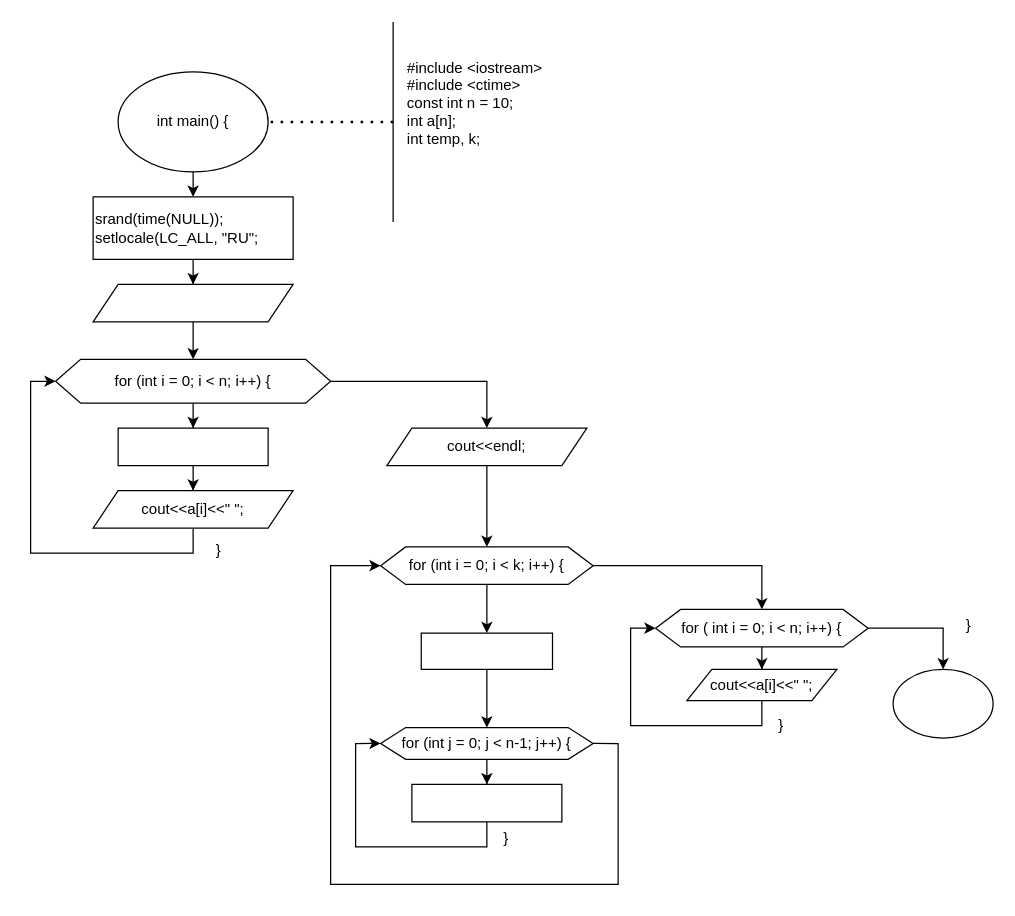
This 1015x916 diagram has some shape labels left out. Each missing label, with the centre of its shape:
a[i] = rand() % 50;: (192,446)
a[j] = a[j+1];: (486,802)
a[o] = temp;: (486,650)
cin>>k;: (192,302)
return 0;: (942,703)
